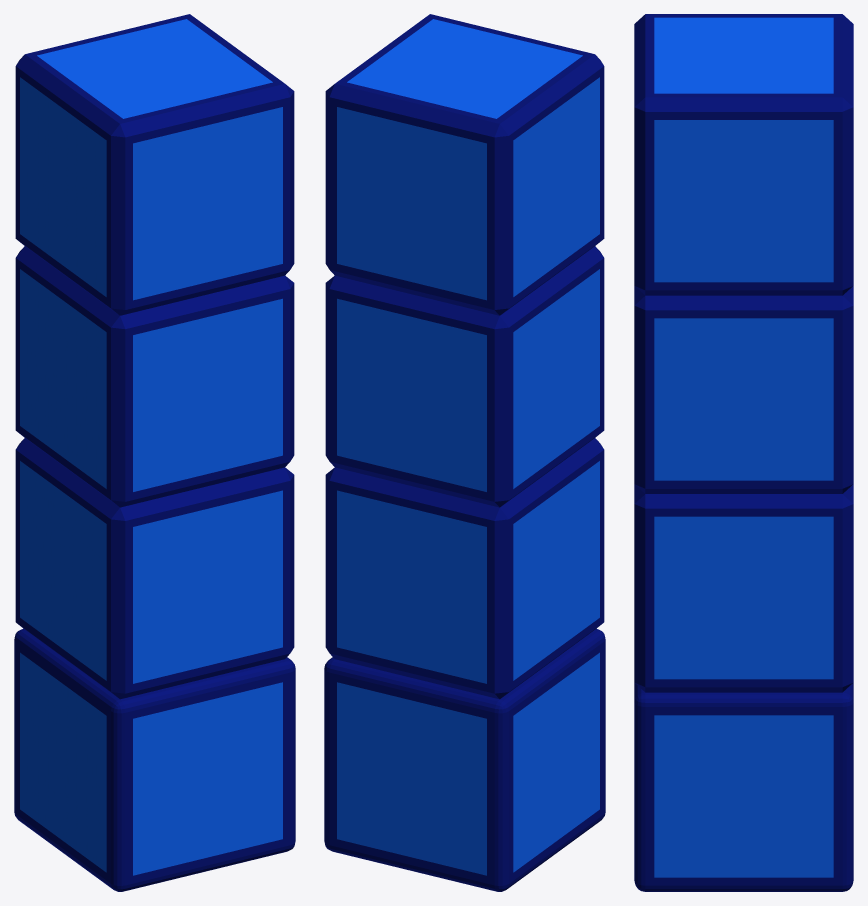
The model's file is fig1_color.obj.
3 renders of one model, left to right at view 1: azimuth 30°, elevation 25°; view 2: azimuth 150°, elevation 25°; view 3: azimuth 270°, elevation 25°, orthographic. The views are drawn at different scales.
Parts seen in each view (by area): view 1: Cube.003_Cube.005, Cube, Cube.002_Cube.004, Cube.001_Cube.003; view 2: Cube.003_Cube.005, Cube, Cube.002_Cube.004, Cube.001_Cube.003; view 3: Cube.003_Cube.005, Cube, Cube.001_Cube.003, Cube.002_Cube.004.
Part boxes in pixels (x1,y1,x2,y2): Cube.003_Cube.005: (15, 14, 294, 315); Cube: (14, 628, 295, 891); Cube.002_Cube.004: (15, 246, 294, 507); Cube.001_Cube.003: (15, 438, 294, 699); Cube.003_Cube.005: (325, 14, 604, 315); Cube: (324, 628, 605, 891); Cube.002_Cube.004: (325, 246, 604, 507); Cube.001_Cube.003: (325, 438, 604, 699); Cube.003_Cube.005: (634, 14, 853, 295); Cube: (634, 683, 853, 891); Cube.001_Cube.003: (634, 484, 853, 692); Cube.002_Cube.004: (634, 286, 853, 493).
Bounding box in the file's own units: 2 × 8 × 2.
